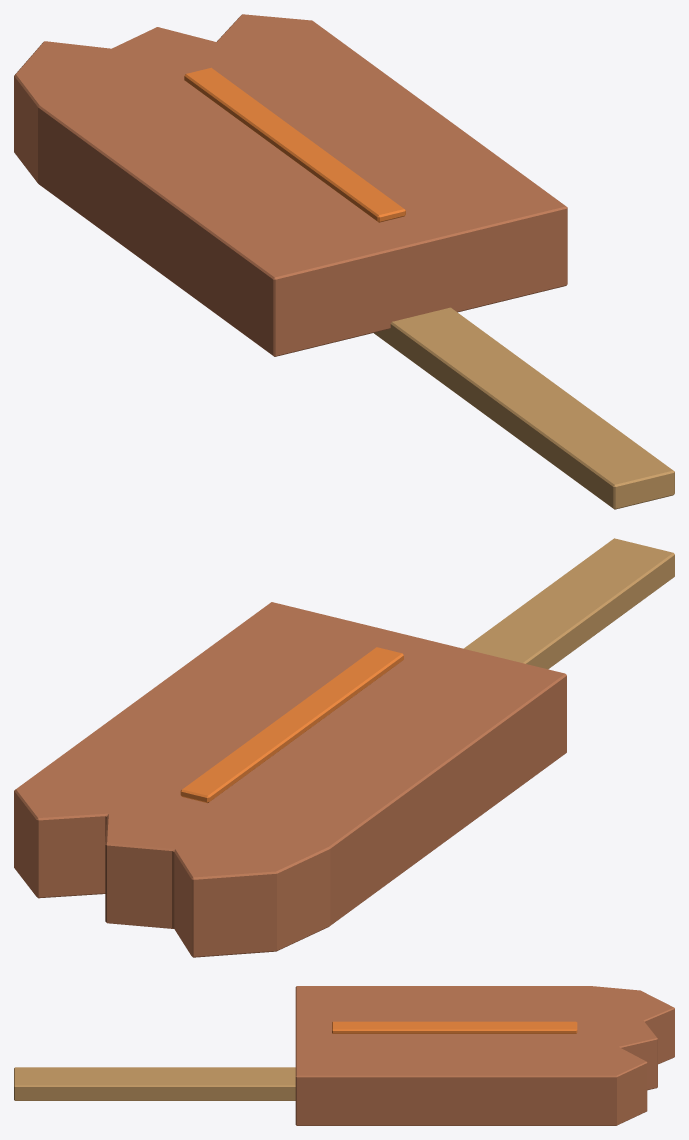
File: b16_partly_eaten_ice_pop.glb
3 renders of one model, top to bottom at view 1: azimuth 30°, elevation 25°; view 2: azimuth 150°, elevation 25°; view 3: azimuth 270°, elevation 25°, orthographic. The views are drawn at different scales.
Visible parts, largest first — view 1: b16_partly_eaten_ice_pop; view 2: b16_partly_eaten_ice_pop; view 3: b16_partly_eaten_ice_pop.
Part boxes in pixels (x1,y1,x2,y2): b16_partly_eaten_ice_pop: (14, 14, 674, 509); b16_partly_eaten_ice_pop: (14, 538, 674, 957); b16_partly_eaten_ice_pop: (14, 986, 674, 1125).
Size of the model in its own units: 0.062 by 0.0213 by 0.1913.
